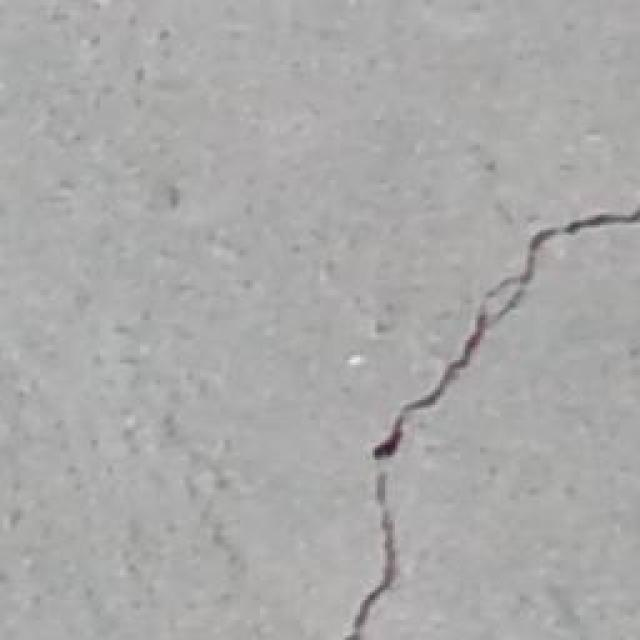concrete-crack: (345, 195, 640, 640)
